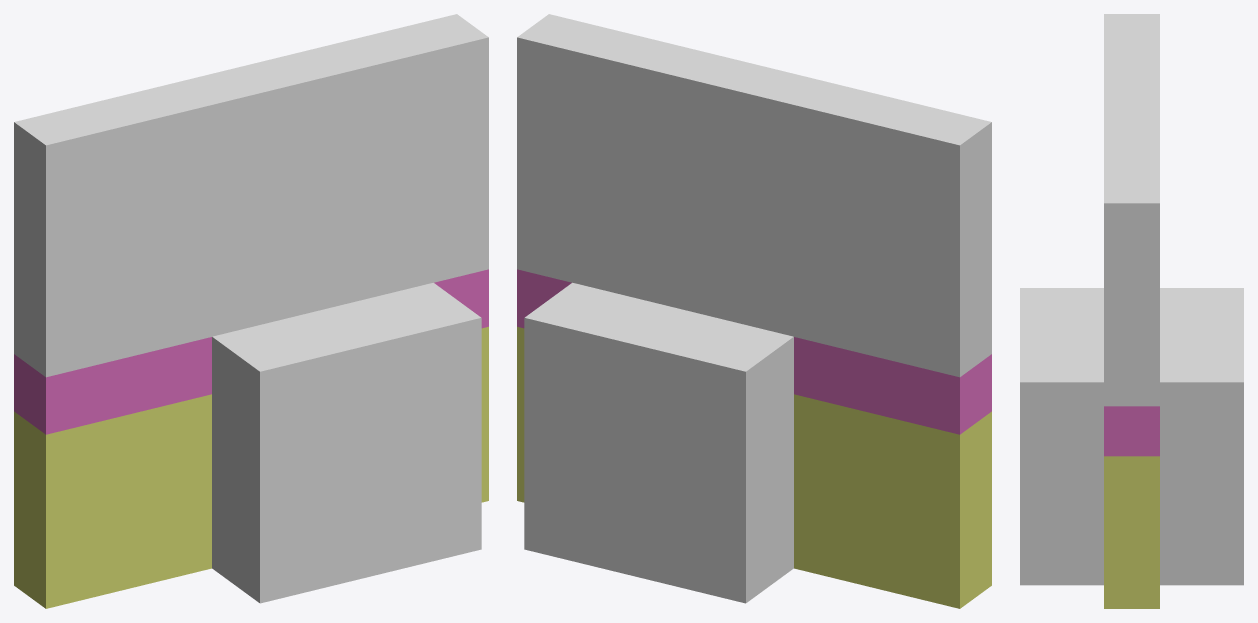
The model's file is OffsetDoor.fbx.
The picture shows the model from 3 angles, left to right: view 1: azimuth 30°, elevation 25°; view 2: azimuth 150°, elevation 25°; view 3: azimuth 270°, elevation 25°; orthographic projection. The views are drawn at different scales.
Visible parts, largest first — view 1: Cube, Cube.001; view 2: Cube, Cube.001; view 3: Cube.001, Cube.
Part boxes in pixels (x1,y1,x2,y2): Cube: (14,14,488,608); Cube.001: (212,282,481,603); Cube: (517,14,991,608); Cube.001: (524,282,793,603); Cube.001: (1020,288,1243,585); Cube: (1104,14,1159,608).
Size of the model in its own units: 400 by 400 by 200.
